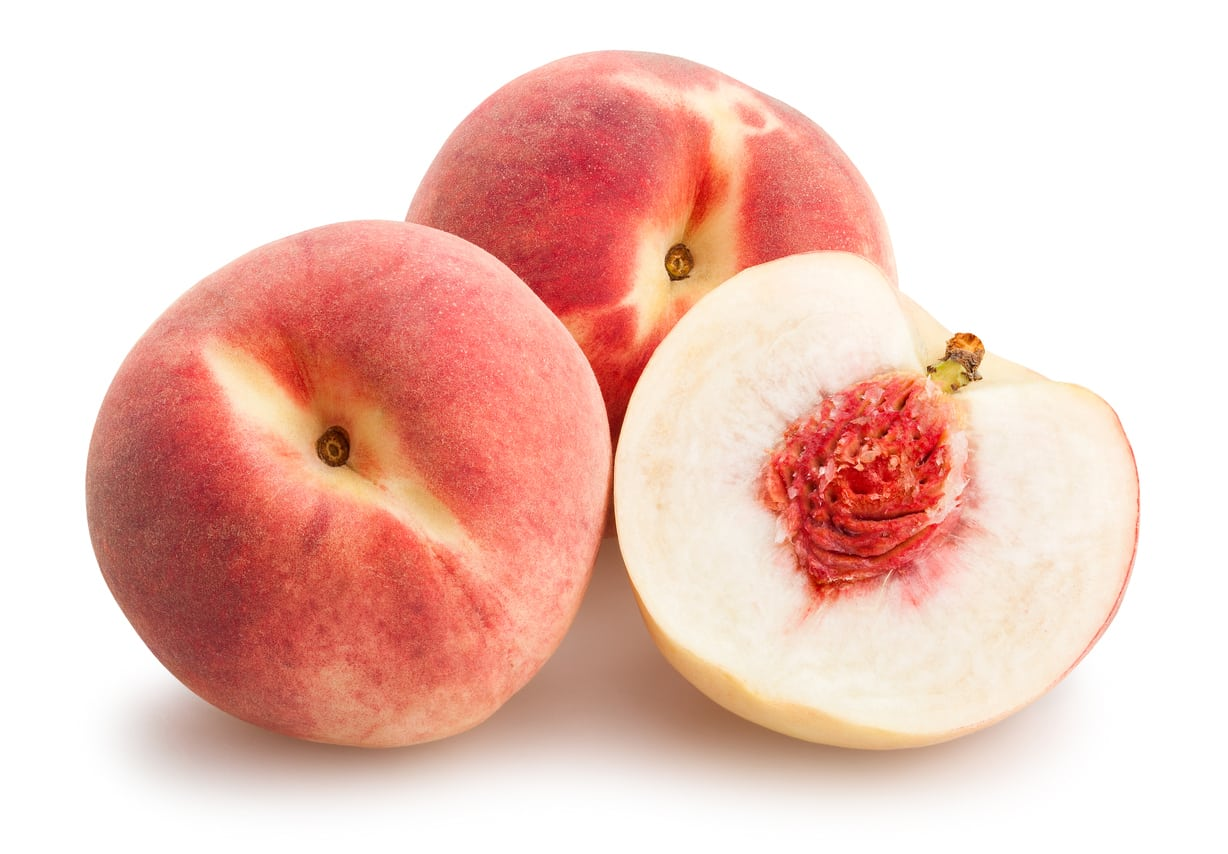peach: (85, 219, 608, 751), (611, 251, 1139, 751)
